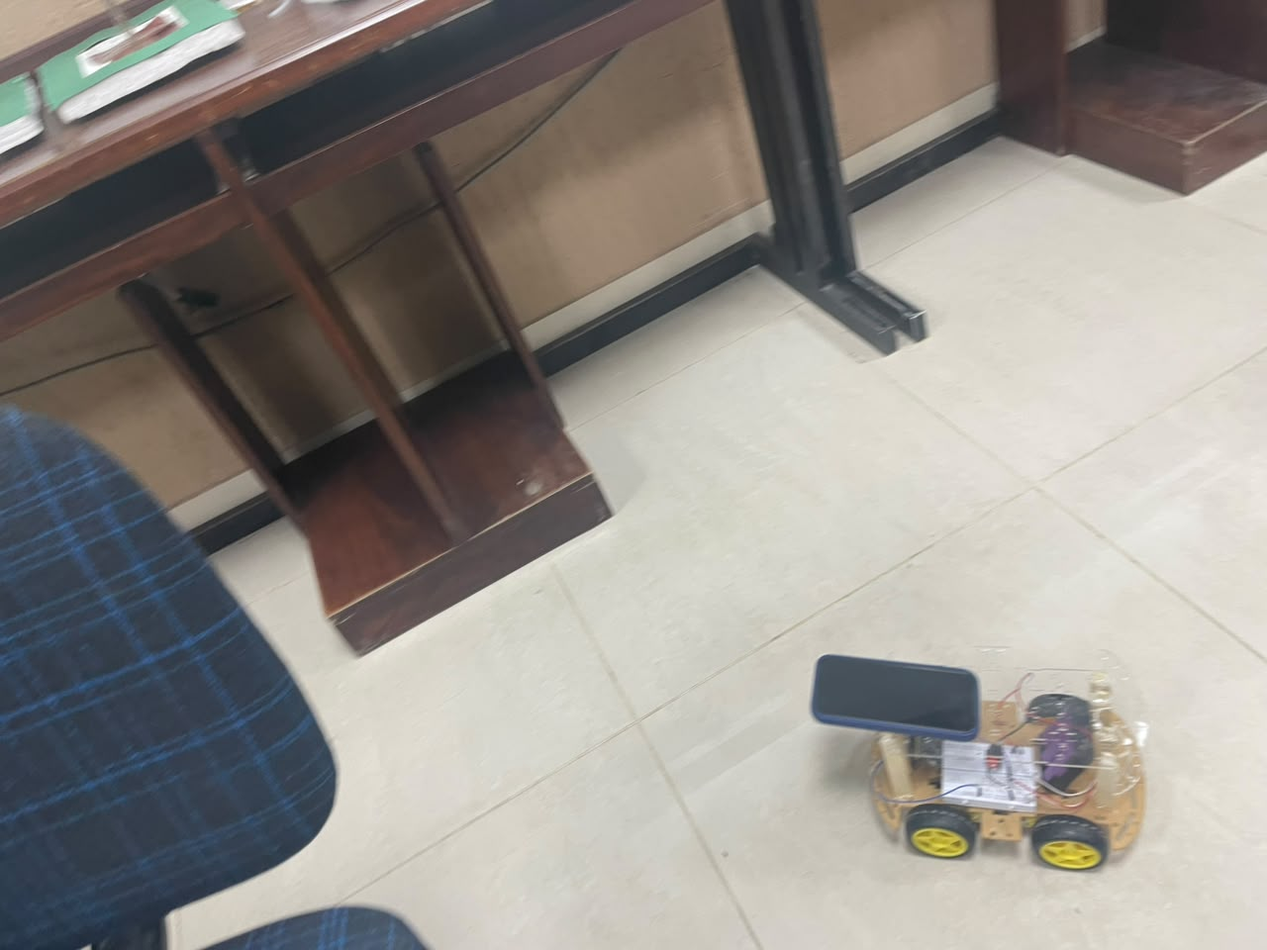Rover-detection: (813, 644, 1147, 873)
